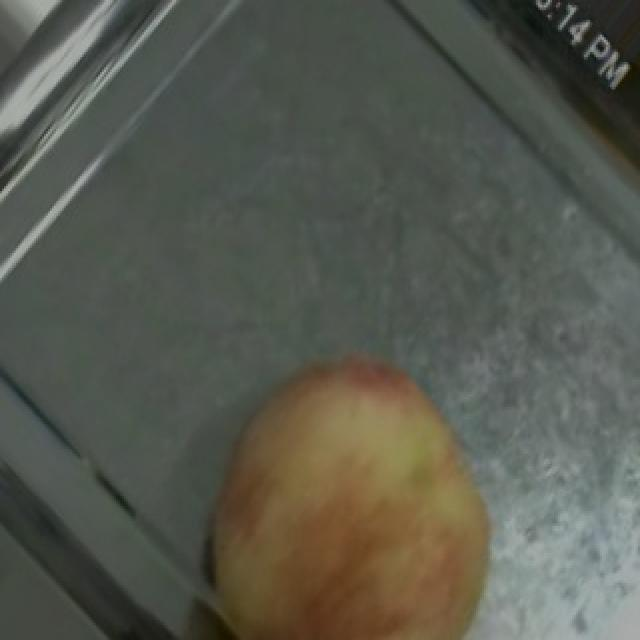Fruit: (164, 312, 518, 640)
